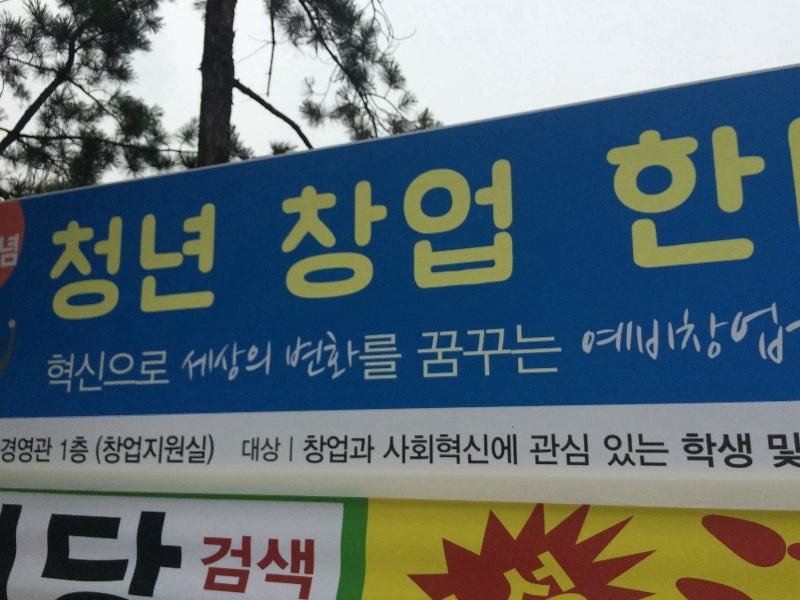text: (273, 144, 288, 319), (289, 144, 304, 319), (305, 144, 320, 319), (321, 144, 336, 319), (337, 144, 352, 319), (353, 144, 368, 319), (369, 144, 384, 319), (385, 144, 400, 319), (401, 144, 416, 319), (417, 144, 432, 319), (433, 144, 448, 319), (449, 144, 464, 319), (465, 144, 480, 319), (481, 144, 496, 319), (497, 144, 512, 319), (513, 144, 528, 319), (609, 118, 624, 280), (625, 118, 640, 280), (641, 118, 656, 280), (657, 118, 672, 280), (673, 118, 688, 280), (689, 118, 704, 280), (705, 118, 720, 280), (721, 118, 736, 280), (737, 118, 752, 280), (753, 118, 768, 280), (49, 194, 64, 339), (65, 194, 80, 339), (81, 194, 96, 339), (97, 194, 112, 339), (113, 194, 128, 339), (129, 194, 144, 339), (145, 194, 160, 339), (161, 194, 176, 339), (177, 194, 192, 339), (193, 194, 208, 339), (209, 194, 224, 339), (595, 118, 608, 280), (225, 194, 237, 339), (769, 118, 779, 280), (177, 505, 193, 598), (529, 144, 537, 319), (49, 505, 64, 598), (65, 505, 80, 598), (81, 505, 96, 598), (97, 505, 112, 598), (113, 505, 128, 598), (129, 505, 144, 598), (145, 505, 160, 598), (161, 505, 176, 598), (577, 297, 592, 381), (593, 297, 608, 381), (609, 297, 624, 381), (625, 297, 640, 381), (641, 297, 656, 381), (657, 297, 672, 381), (673, 297, 688, 381), (689, 297, 704, 381), (705, 297, 720, 381), (721, 297, 736, 381), (737, 297, 752, 381), (753, 297, 768, 381), (769, 297, 784, 381), (417, 319, 432, 391), (433, 319, 448, 391), (449, 319, 464, 391), (465, 319, 480, 391), (481, 319, 496, 391), (497, 319, 512, 391), (513, 319, 528, 391), (529, 319, 544, 391), (545, 319, 560, 391), (209, 526, 224, 596), (225, 526, 240, 596), (241, 526, 256, 596), (257, 526, 272, 596), (273, 526, 288, 596), (289, 526, 304, 596), (305, 526, 320, 596), (41, 194, 48, 339), (289, 330, 304, 396), (305, 330, 320, 396), (321, 330, 336, 396), (337, 330, 352, 396), (353, 330, 368, 396), (369, 330, 384, 396), (385, 330, 400, 396), (194, 526, 208, 596), (161, 344, 177, 403), (38, 505, 48, 598), (609, 423, 624, 483), (625, 423, 640, 483), (641, 423, 656, 483), (49, 344, 64, 403), (65, 344, 80, 403), (81, 344, 96, 403), (97, 344, 112, 403), (113, 344, 128, 403), (129, 344, 144, 403), (145, 344, 160, 403), (193, 338, 208, 396), (209, 338, 224, 396), (225, 338, 240, 396), (241, 338, 256, 396), (257, 338, 272, 396), (497, 540, 512, 598), (513, 540, 528, 598), (529, 540, 544, 598), (545, 540, 560, 598), (561, 540, 576, 598), (529, 423, 544, 479), (545, 423, 560, 479), (561, 423, 576, 479), (577, 423, 592, 479), (657, 423, 671, 483), (785, 297, 794, 381), (179, 338, 192, 396), (97, 428, 112, 478), (113, 428, 128, 478), (129, 428, 144, 478), (145, 428, 160, 478), (161, 428, 176, 478), (177, 428, 192, 478), (193, 428, 208, 478), (769, 429, 784, 476), (785, 429, 800, 476), (1, 229, 16, 275), (385, 431, 400, 476), (401, 431, 416, 476), (417, 431, 432, 476), (433, 431, 448, 476), (449, 431, 464, 476), (465, 431, 480, 476), (481, 431, 496, 476), (497, 431, 512, 476), (305, 430, 320, 474), (321, 430, 336, 474), (337, 430, 352, 474), (353, 430, 368, 474), (689, 429, 704, 472), (705, 429, 720, 472), (721, 429, 736, 472), (737, 429, 752, 472), (321, 526, 330, 596), (1, 434, 16, 475), (17, 434, 32, 475), (33, 434, 48, 475), (241, 432, 256, 473), (257, 432, 272, 473), (273, 432, 288, 473), (38, 344, 48, 403), (65, 433, 80, 472), (513, 431, 525, 476), (401, 330, 409, 396), (369, 430, 381, 474), (600, 423, 608, 483), (209, 428, 218, 478), (410, 319, 416, 391), (577, 540, 584, 598), (282, 330, 288, 396), (295, 430, 304, 474), (81, 433, 91, 472), (679, 429, 688, 472), (231, 432, 240, 473), (17, 229, 25, 275), (273, 338, 279, 396), (56, 433, 64, 472), (593, 423, 598, 479), (49, 434, 55, 475), (561, 319, 564, 391), (753, 429, 758, 472), (92, 428, 96, 478), (764, 429, 768, 476), (271, 144, 272, 319), (493, 540, 496, 598), (574, 297, 576, 381), (289, 432, 292, 473)
